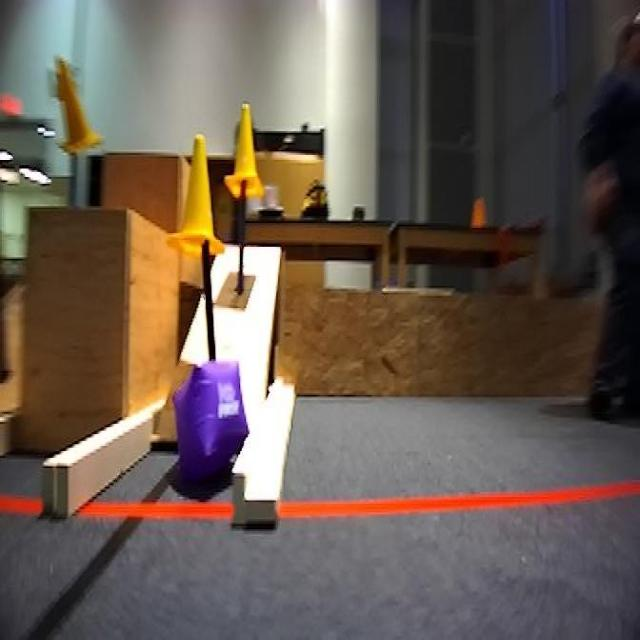frc_cone: (168, 129, 222, 257), (53, 55, 103, 156), (224, 104, 266, 197)
frc_cube: (173, 359, 250, 487)
